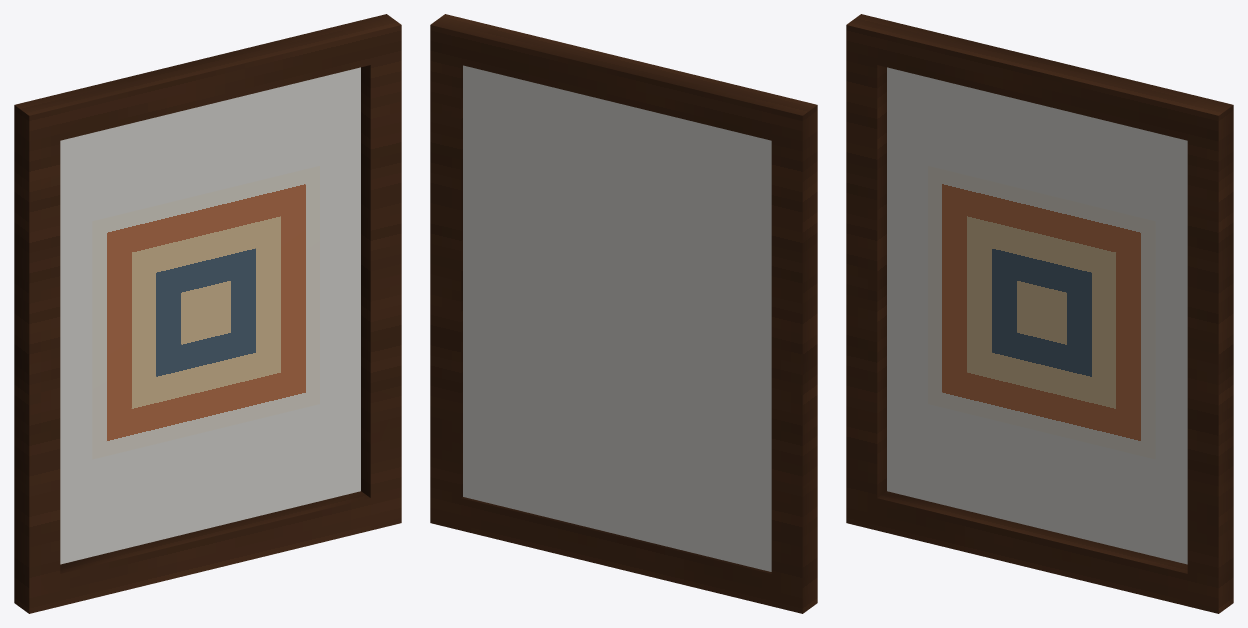
File: picture_frame_c.glb
3 renders of one model, left to right at view 1: azimuth 30°, elevation 25°; view 2: azimuth 150°, elevation 25°; view 3: azimuth 330°, elevation 25°, orthographic.
Parts seen in each view (by area): view 1: body, panels; view 2: body; view 3: body, panels.
Boxes of the visible parts, <box> form: body: <box>14,14,401,613</box>; panels: <box>92,166,319,459</box>; body: <box>430,14,817,613</box>; body: <box>846,14,1233,613</box>; panels: <box>928,166,1155,459</box>.
Bounding box in the file's own units: 0.36 × 0.46 × 0.025.
Materials: 3 (2 with a texture image).
